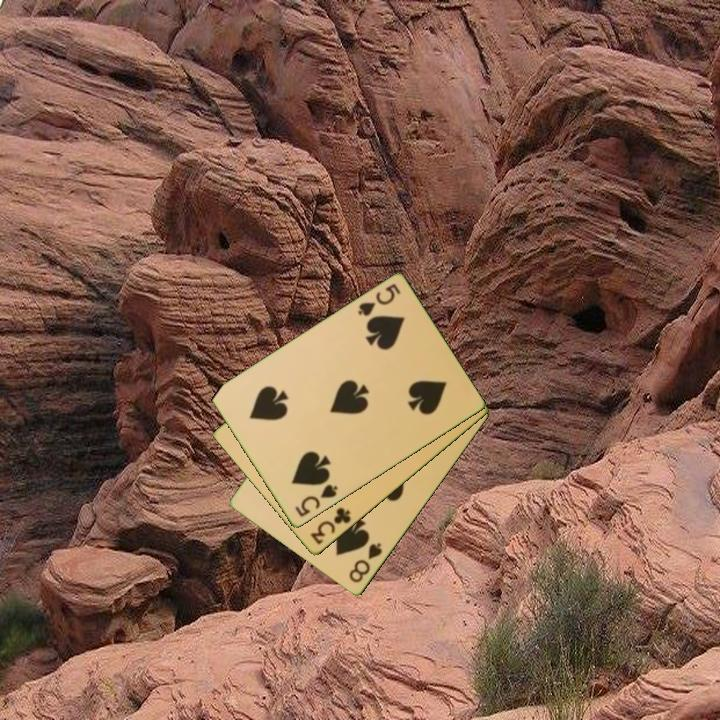3c: (307, 504, 354, 548)
5s: (354, 280, 403, 320), (291, 481, 341, 520)
8s: (345, 540, 385, 586)
